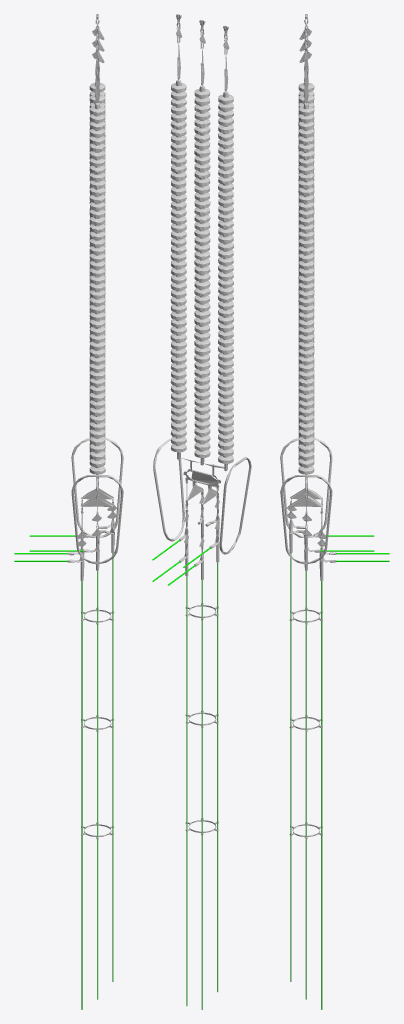
The model's file is tension-insulator.glb.
3 views of the same model, side by side, from view 1: azimuth 90°, elevation 25°; view 2: azimuth 150°, elevation 25°; view 3: azimuth 270°, elevation 25° (orthographic).
Visible parts, largest first — view 1: part84, part18, part20, part22, part64, part3, part4, part83; view 2: part64, part84, part62, part39, part20, part18, part3, part4, part63, part83, part61, part85; view 3: part62, part39, part41, part43, part64, part4, part3, part61.
Boxes of the visible parts, <box> form: part84: <box>89,106,105,474</box>; part18: <box>81,581,82,1009</box>; part20: <box>97,571,98,999</box>; part22: <box>112,553,113,981</box>; part64: <box>89,94,105,459</box>; part3: <box>71,475,123,564</box>; part4: <box>71,438,123,537</box>; part83: <box>94,100,100,480</box>; part64: <box>194,88,210,457</box>; part84: <box>218,94,233,463</box>; part62: <box>170,83,186,452</box>; part39: <box>186,576,187,1006</box>; part20: <box>217,562,218,992</box>; part18: <box>201,580,202,1009</box>; part3: <box>217,457,251,554</box>; part4: <box>153,439,186,541</box>; part63: <box>199,82,205,465</box>; part83: <box>223,88,228,470</box>; part61: <box>175,76,181,459</box>; part85: <box>181,458,224,487</box>; part62: <box>298,106,314,474</box>; part39: <box>321,581,322,1009</box>; part41: <box>305,570,306,999</box>; part43: <box>290,553,291,981</box>; part64: <box>298,94,314,460</box>; part4: <box>280,475,332,564</box>; part3: <box>280,438,332,537</box>; part61: <box>303,99,309,481</box>.
Size of the model in its own units: 2.24 by 27.4 by 2.77.
